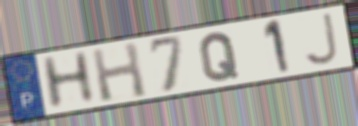1: (261, 17, 292, 77)
7: (146, 34, 186, 95)
H: (38, 49, 99, 113), (88, 40, 149, 104)
J: (301, 11, 341, 67)
Q: (197, 30, 241, 83)
